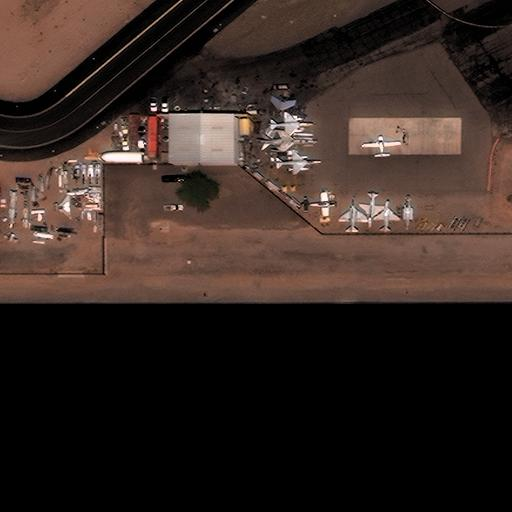Military Fighter: (257, 130, 317, 151), (267, 111, 313, 137), (274, 149, 321, 174), (337, 194, 367, 232), (359, 191, 384, 228), (372, 200, 399, 232)
Small Civil Transport: (361, 135, 400, 157), (301, 191, 335, 216)
